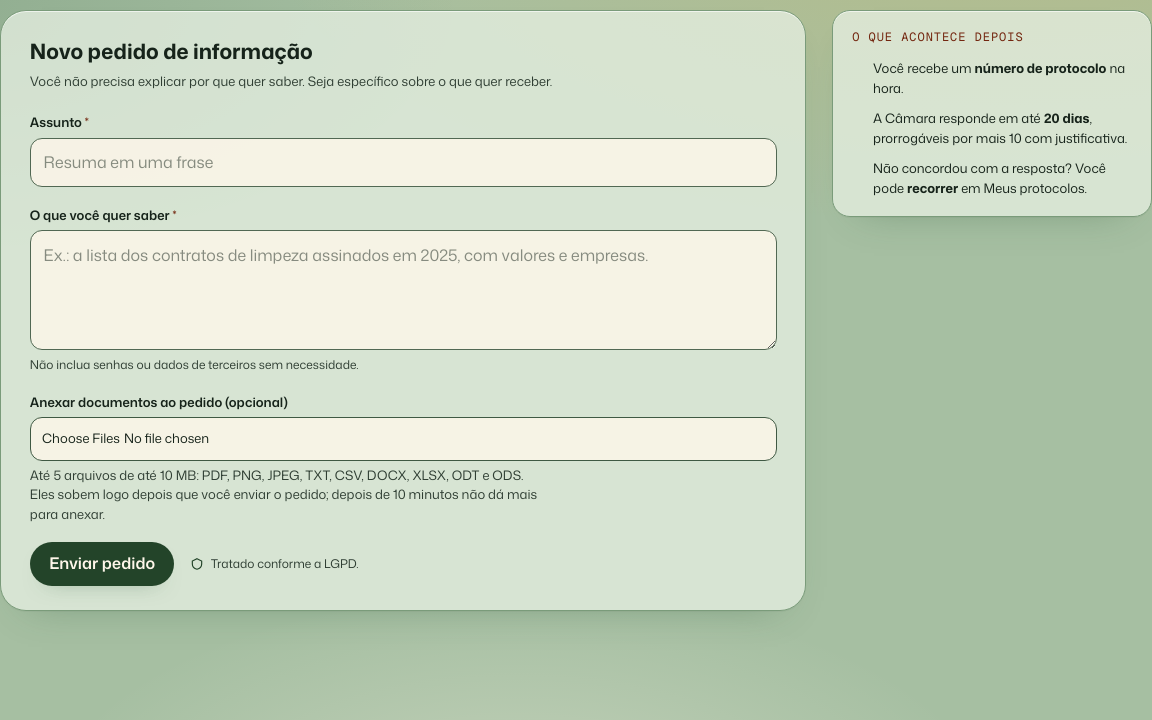
Test: formulários do cidadão › e-SIC: campo vazio não vai ao backend e diz o que falta
Click the button "Enviar pedido" at (102, 564), box 30,542 -> 174,586
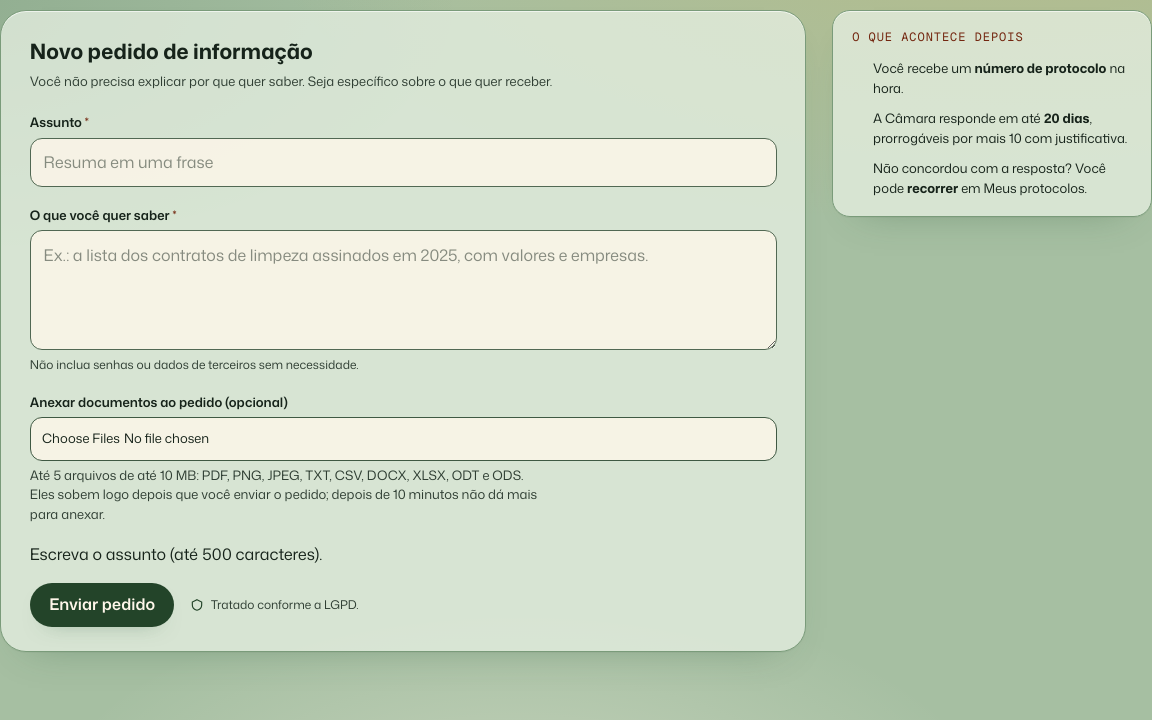
Check: the message shows "assunto", box 30,543 -> 322,565
